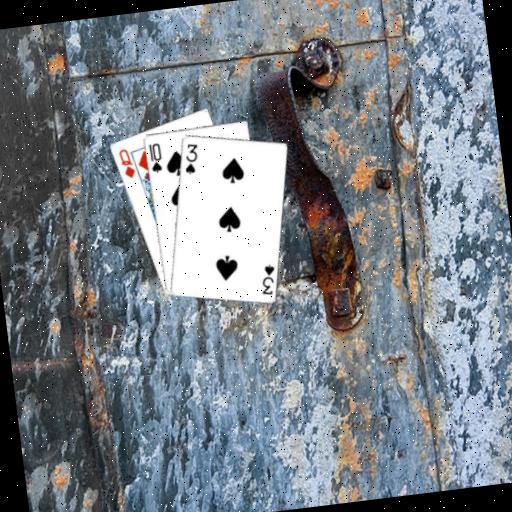10S: (145, 140, 164, 175)
3S: (178, 140, 202, 177), (256, 261, 279, 298)
QD: (114, 145, 137, 181)
